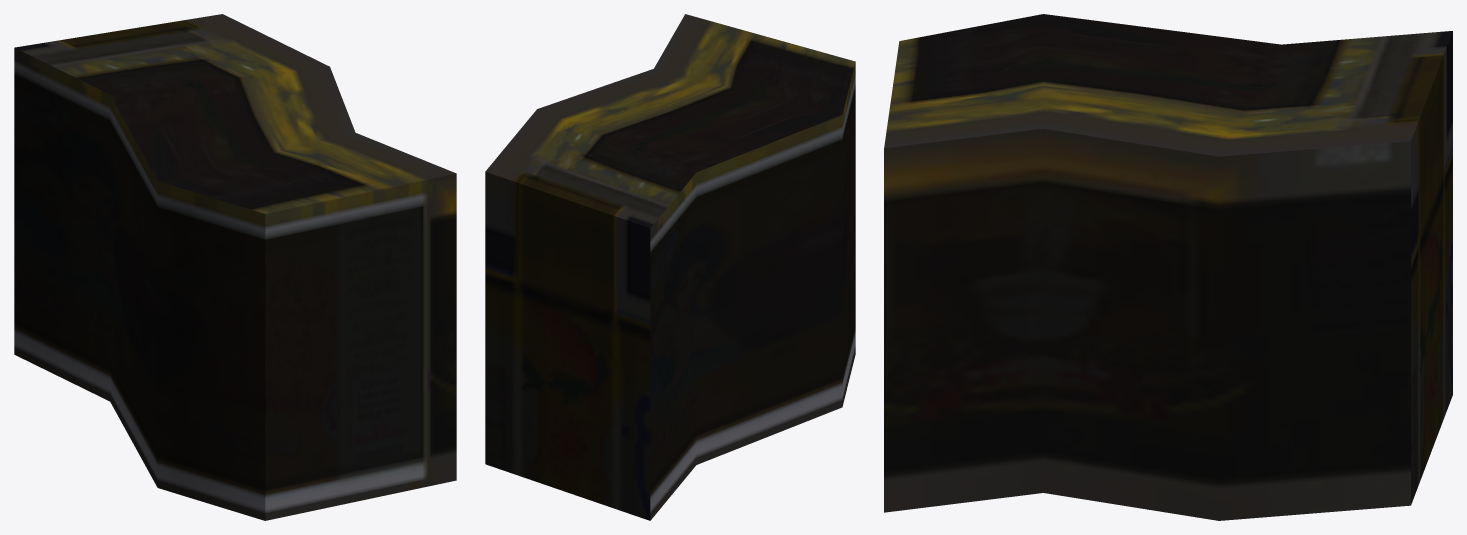
The model's file is p6_pak_food_bottle_stacked_01_lod2.glb.
3 views of the same model, side by side, from view 1: azimuth 30°, elevation 25°; view 2: azimuth 150°, elevation 25°; view 3: azimuth 270°, elevation 25° (orthographic). The views are drawn at different scales.
Parts seen in each view (by area): view 1: surf0; view 2: surf0; view 3: surf0.
Part boxes in pixels (bbox=[...]): surf0: bbox=[14, 14, 456, 520]; surf0: bbox=[485, 14, 855, 520]; surf0: bbox=[884, 14, 1452, 520].
Size of the model in its own units: 13.11 by 15.61 by 22.08.
